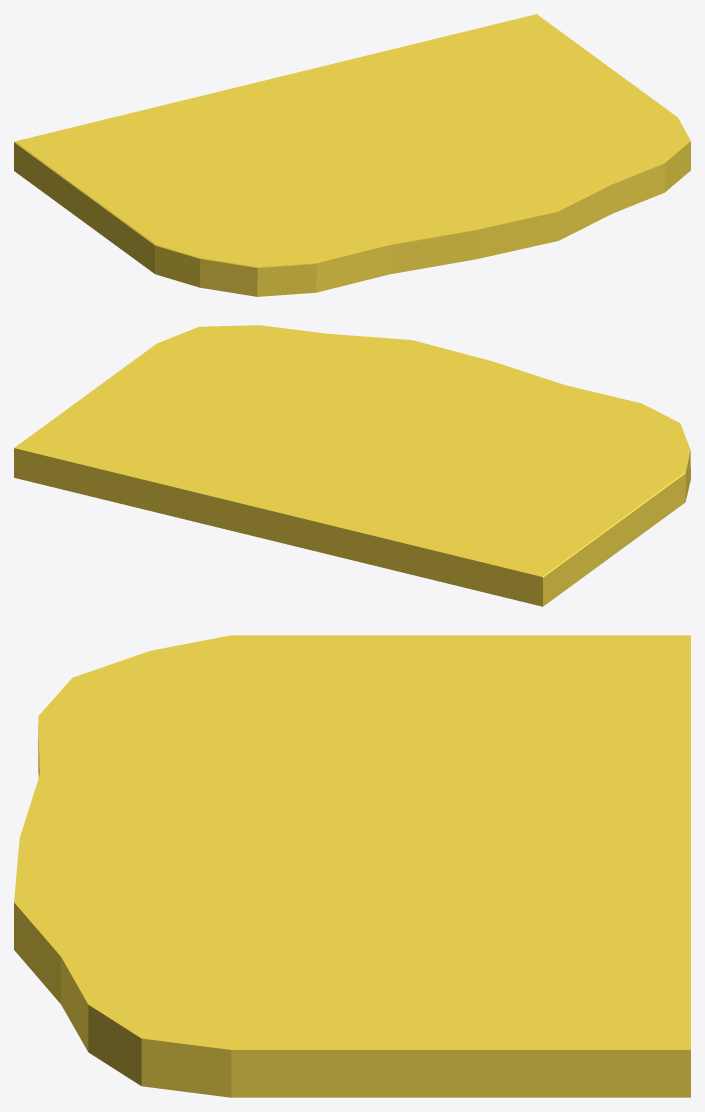
The model's file is gnd_end_yellow_02.fbx.
The picture shows the model from 3 angles, top to bottom: view 1: azimuth 30°, elevation 25°; view 2: azimuth 150°, elevation 25°; view 3: azimuth 270°, elevation 25°; orthographic projection. The views are drawn at different scales.
Parts seen in each view (by area): view 1: gnd_end_yellow_02; view 2: gnd_end_yellow_02; view 3: gnd_end_yellow_02.
Part boxes in pixels (bbox=[...]): gnd_end_yellow_02: bbox=[14, 14, 690, 296]; gnd_end_yellow_02: bbox=[14, 325, 690, 606]; gnd_end_yellow_02: bbox=[14, 635, 690, 1097].
Bounding box in the file's own units: 7648 × 410 × 5266.
